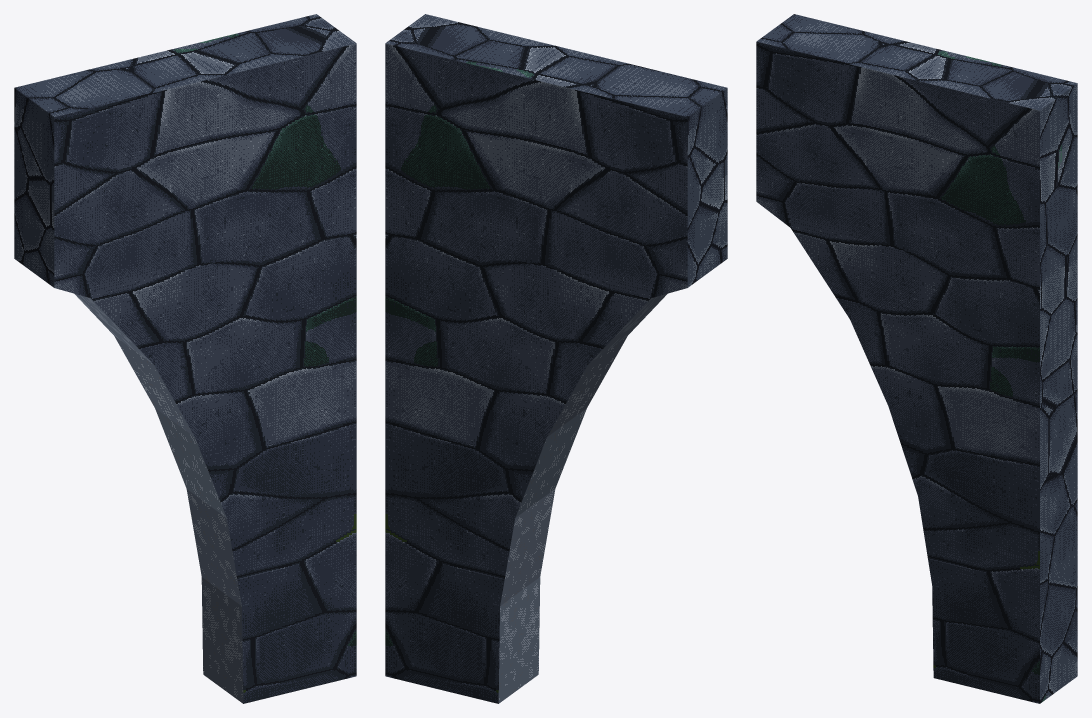
File: SM_Env_WallBreach_2x4_R.glb
The picture shows the model from 3 angles, left to right: view 1: azimuth 30°, elevation 25°; view 2: azimuth 150°, elevation 25°; view 3: azimuth 330°, elevation 25°; orthographic projection. The views are drawn at different scales.
Visible parts, largest first — view 1: joint_6, joint_4, joint_3, joint_2, joint_0, joint_1, joint_5; view 2: joint_6, joint_4, joint_3, joint_2, joint_0, joint_1, joint_5; view 3: joint_6, joint_4, joint_3, joint_2, joint_0, joint_1, joint_5.
Boxes of the visible parts, <box> form: joint_6: <box>14,14,356,287</box>; joint_4: <box>74,233,356,364</box>; joint_3: <box>114,315,356,437</box>; joint_2: <box>155,398,356,517</box>; joint_0: <box>201,577,356,703</box>; joint_1: <box>186,486,356,605</box>; joint_5: <box>55,214,356,297</box>; joint_6: <box>385,14,727,287</box>; joint_4: <box>385,233,667,364</box>; joint_3: <box>385,315,627,437</box>; joint_2: <box>385,398,586,517</box>; joint_0: <box>385,577,540,703</box>; joint_1: <box>385,486,555,605</box>; joint_5: <box>385,214,686,297</box>; joint_6: <box>756,14,1077,270</box>; joint_4: <box>791,228,1077,365</box>; joint_3: <box>850,319,1077,442</box>; joint_2: <box>888,406,1077,525</box>; joint_0: <box>932,584,1077,703</box>; joint_1: <box>918,496,1077,611</box>; joint_5: <box>757,202,1077,288</box>.
Size of the model in its own units: 2 by 4 by 0.46.
1 material, 1 textured.
